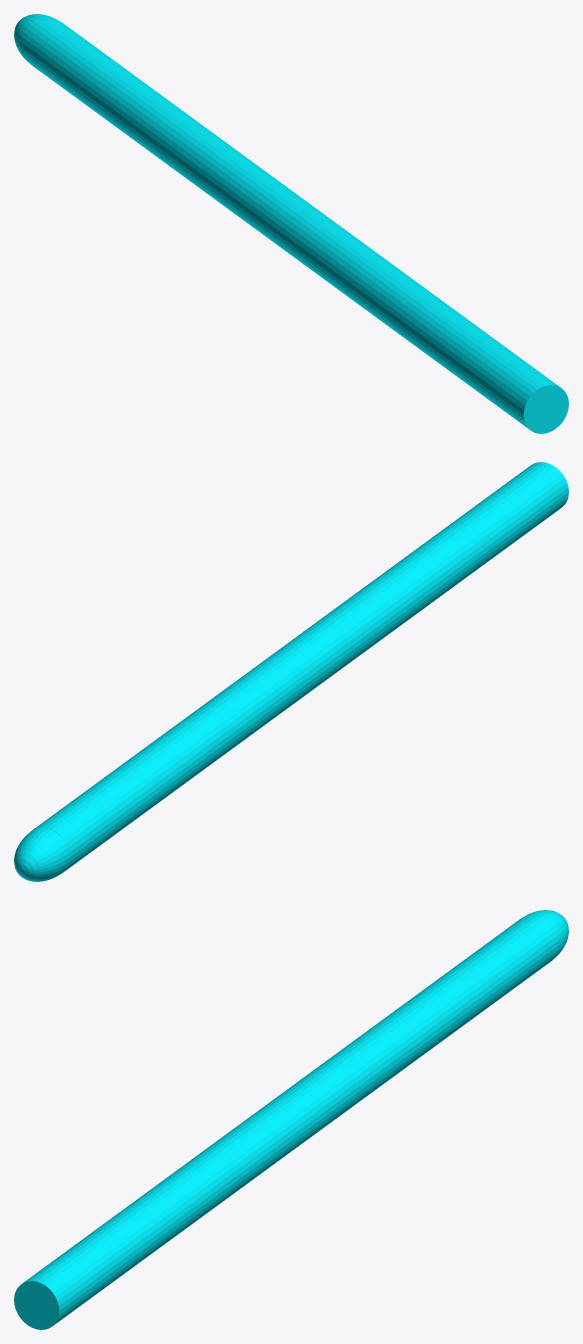
Rendered from LIGHTSABER.obj.
3 renders of one model, top to bottom at view 1: azimuth 30°, elevation 25°; view 2: azimuth 150°, elevation 25°; view 3: azimuth 330°, elevation 25°, orthographic.
Parts seen in each view (by area): view 1: Cylinder; view 2: Cylinder; view 3: Cylinder.
Boxes of the visible parts, x1,y1,x2,y2 form: Cylinder: (14, 14, 568, 433); Cylinder: (14, 462, 568, 881); Cylinder: (14, 910, 568, 1329).
Bounding box in the file's own units: 0.0684 × 0.0688 × 1.37.
1 material, 1 textured.
